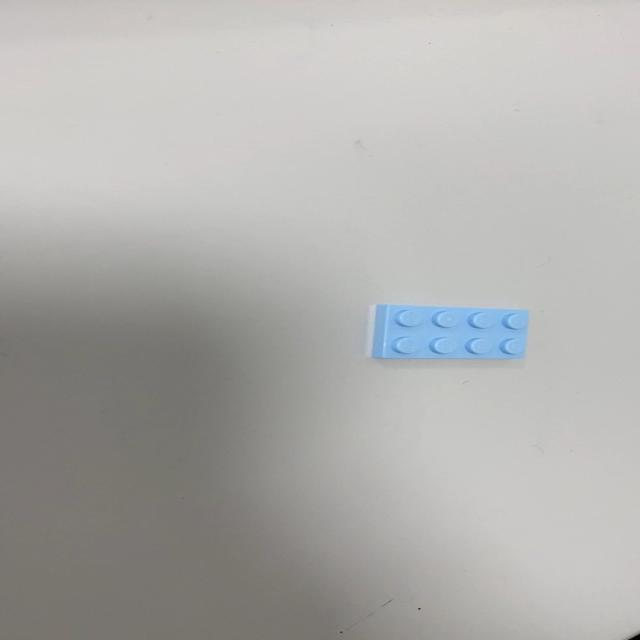C4x2x0: (368, 302, 530, 360)
